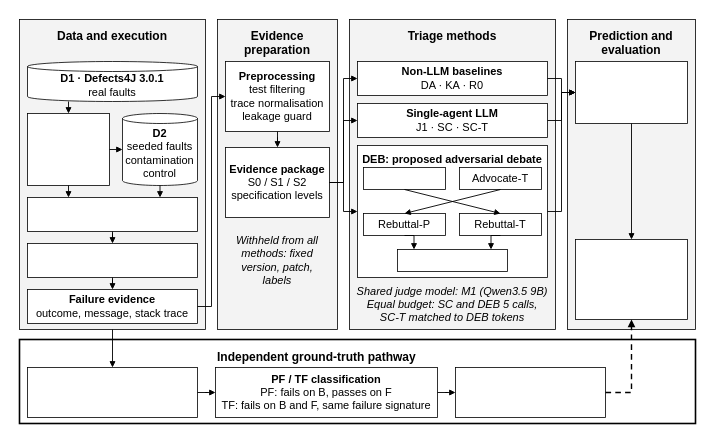
This 714x442 diagram has some shape labels left out. Each missing label, with the centre of its shape:
"Adjudicator" belongs at point (452, 260).
"Advocate-P" belongs at point (404, 178).
"Common output PROGRAM_FAULT / TEST_FAULT cited evidence ids" belongs at point (631, 92).
"Compile and execute on buggy (B) and fixed (F)" belongs at point (112, 260).
"Evaluation vs sealed labels: classification error and retention efficiency" belongs at point (631, 279).
"Execution outcomes every run on B and F" belongs at point (112, 392).
"Project split dev: 3 projects (prompts, thresholds) held-out: 14" belongs at point (68, 149).
"Sealed labels never exposed to any triage method or LLM judge" belongs at point (530, 392).
"Unit-test generation Gemma 4 26B-A4B" belongs at point (112, 214).
